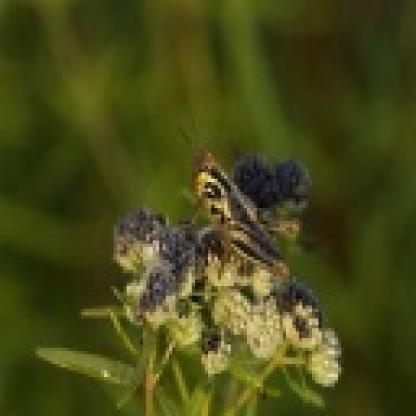grasshopper: (194, 140, 308, 287)
